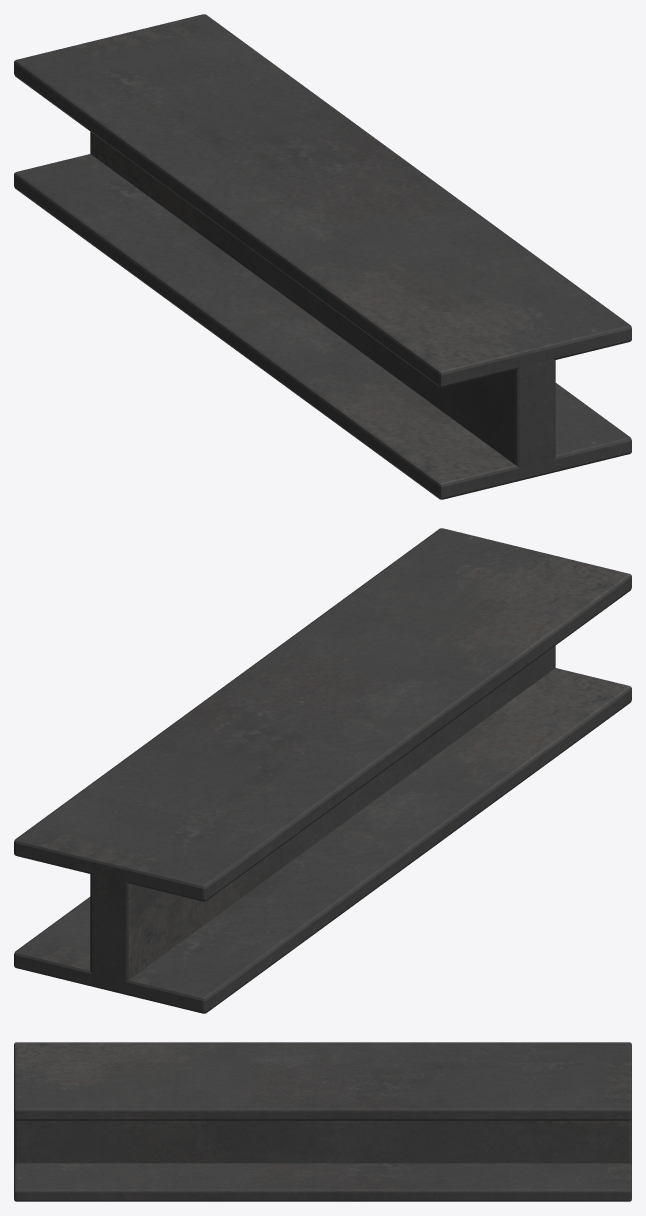
The model's file is SM_GarageConcrete_CanopyRailLeft.fbx.
The picture shows the model from 3 angles, top to bottom: view 1: azimuth 30°, elevation 25°; view 2: azimuth 150°, elevation 25°; view 3: azimuth 270°, elevation 25°; orthographic projection. The views are drawn at different scales.
Visible parts, largest first — view 1: SM_GarageConcrete_CanopyRailLeft; view 2: SM_GarageConcrete_CanopyRailLeft; view 3: SM_GarageConcrete_CanopyRailLeft.
Boxes of the visible parts, left/top/right/bottom form: SM_GarageConcrete_CanopyRailLeft: left=14, top=14, right=631, bottom=499; SM_GarageConcrete_CanopyRailLeft: left=14, top=528, right=631, bottom=1013; SM_GarageConcrete_CanopyRailLeft: left=14, top=1042, right=631, bottom=1201.
Bounding box in the file's own units: 19.25 × 74 × 12.31.
